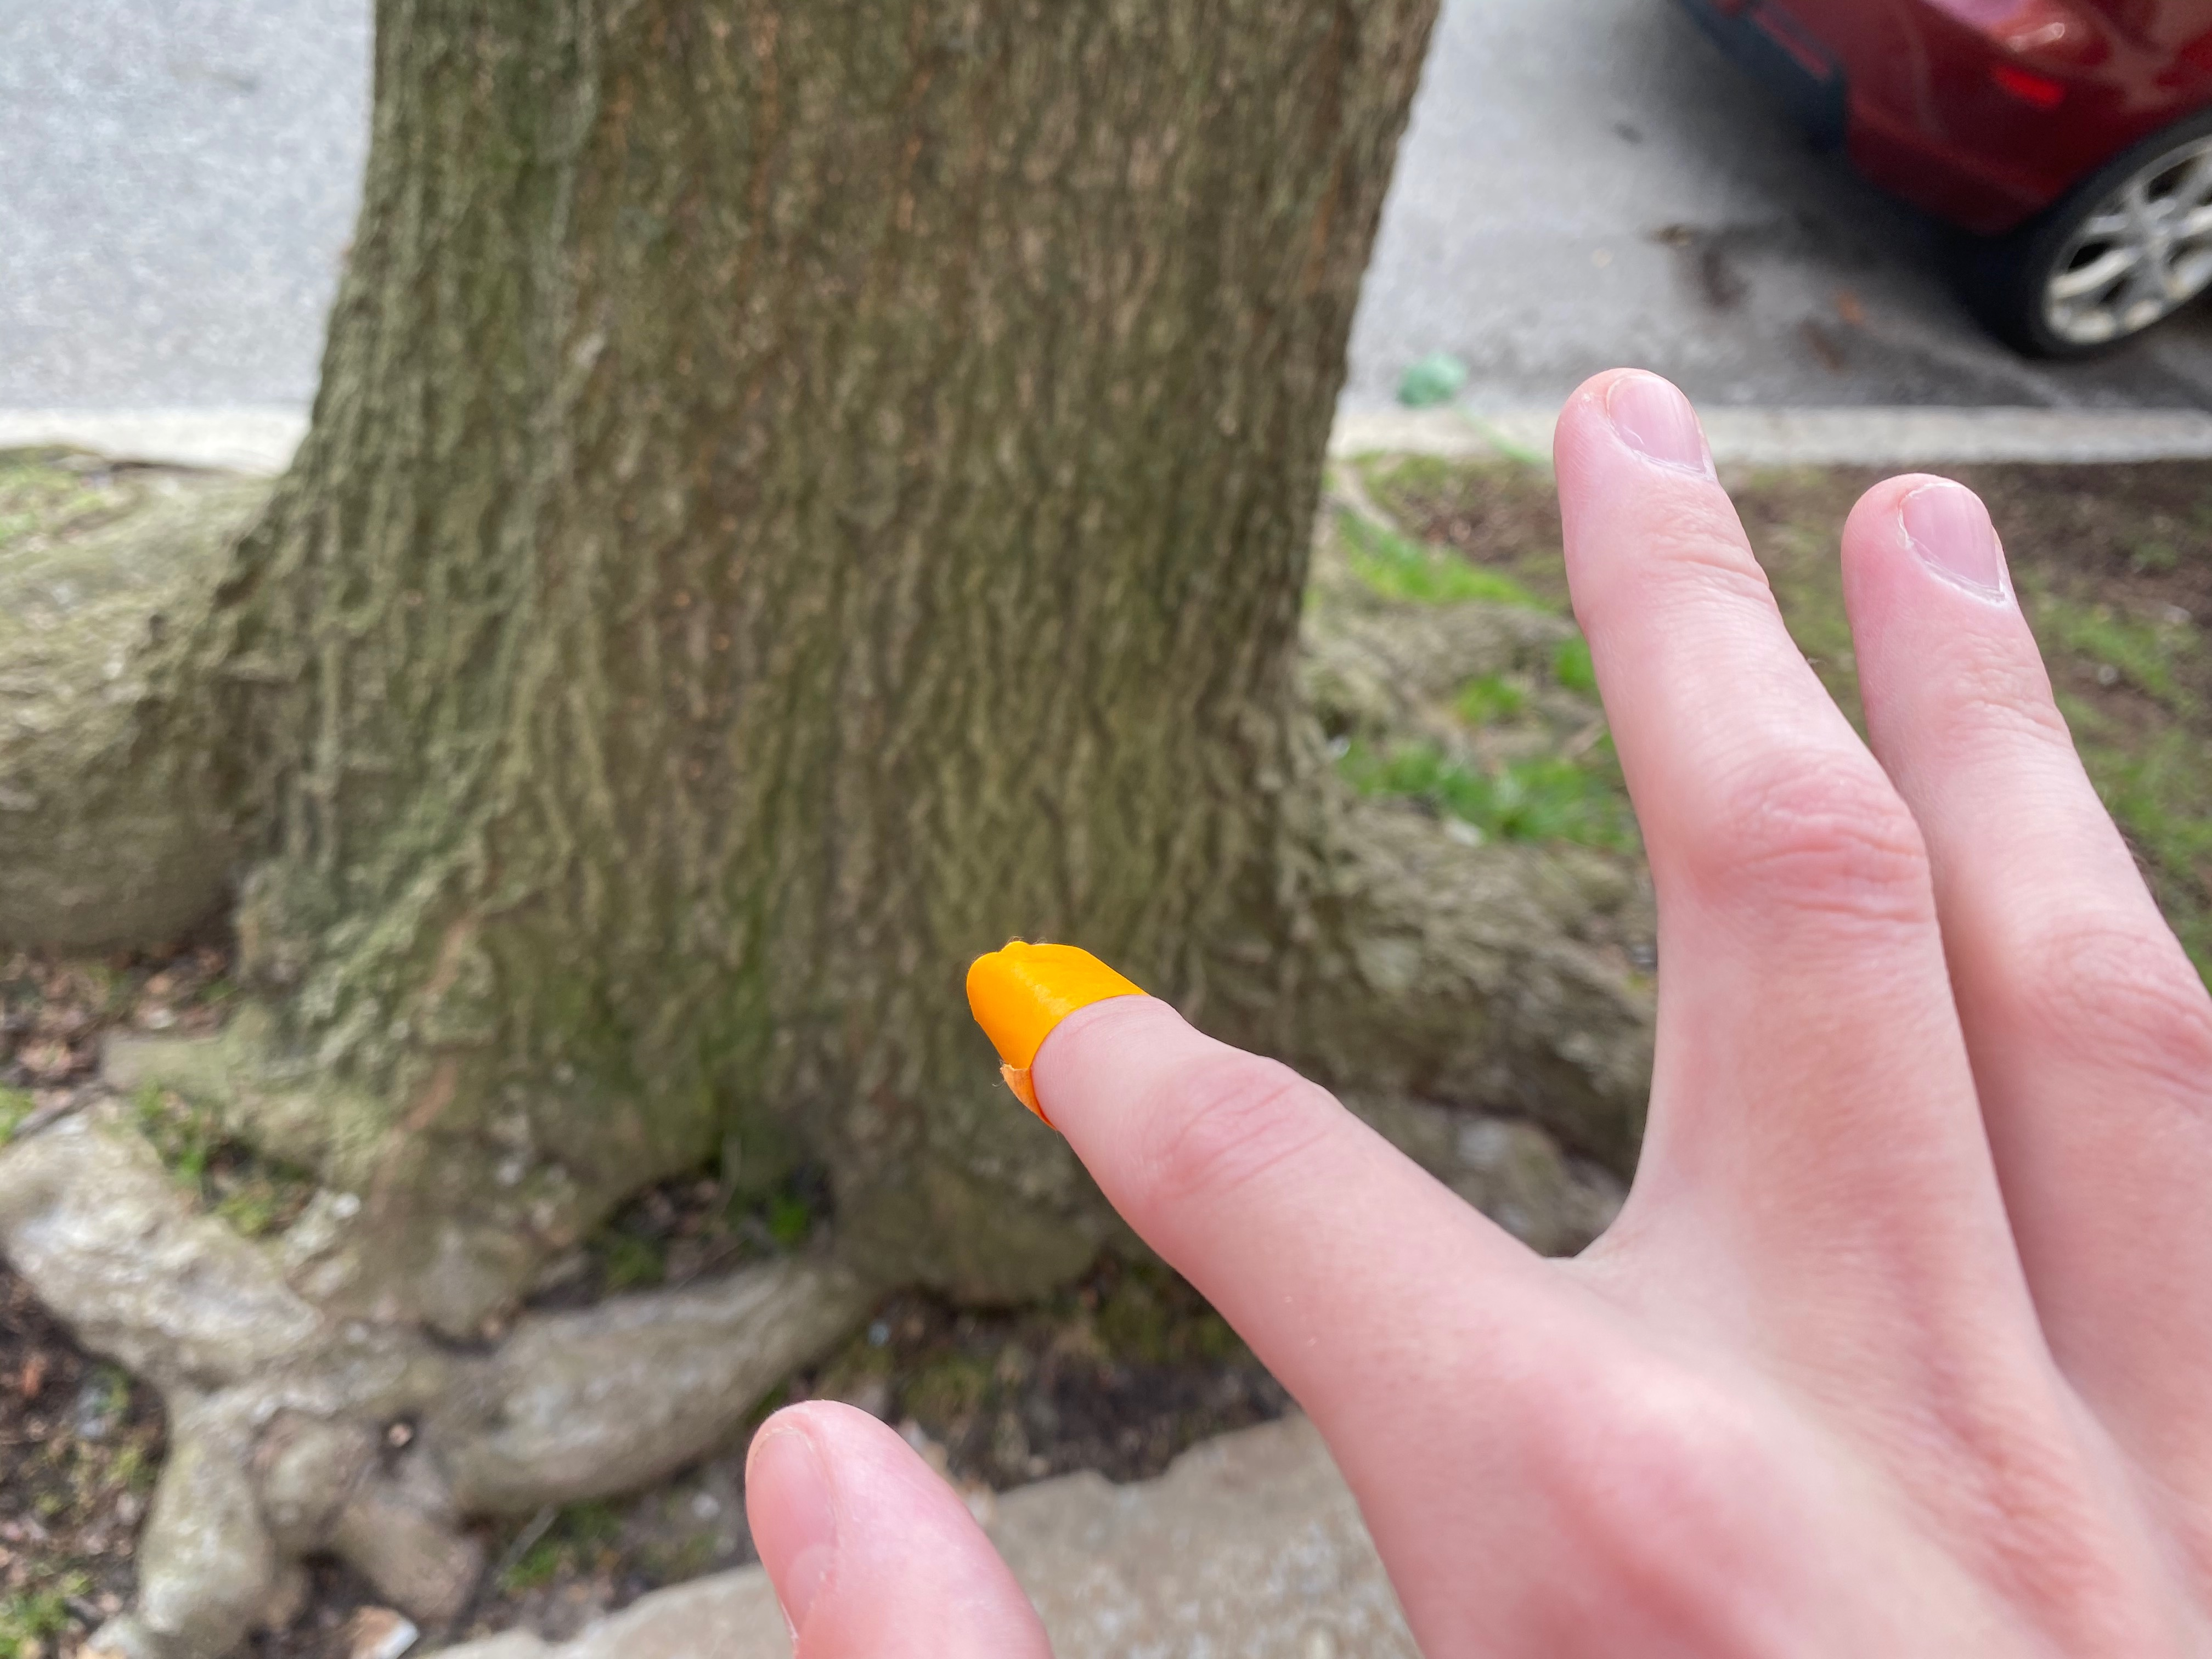fingertip: (921, 908, 1197, 1136)
